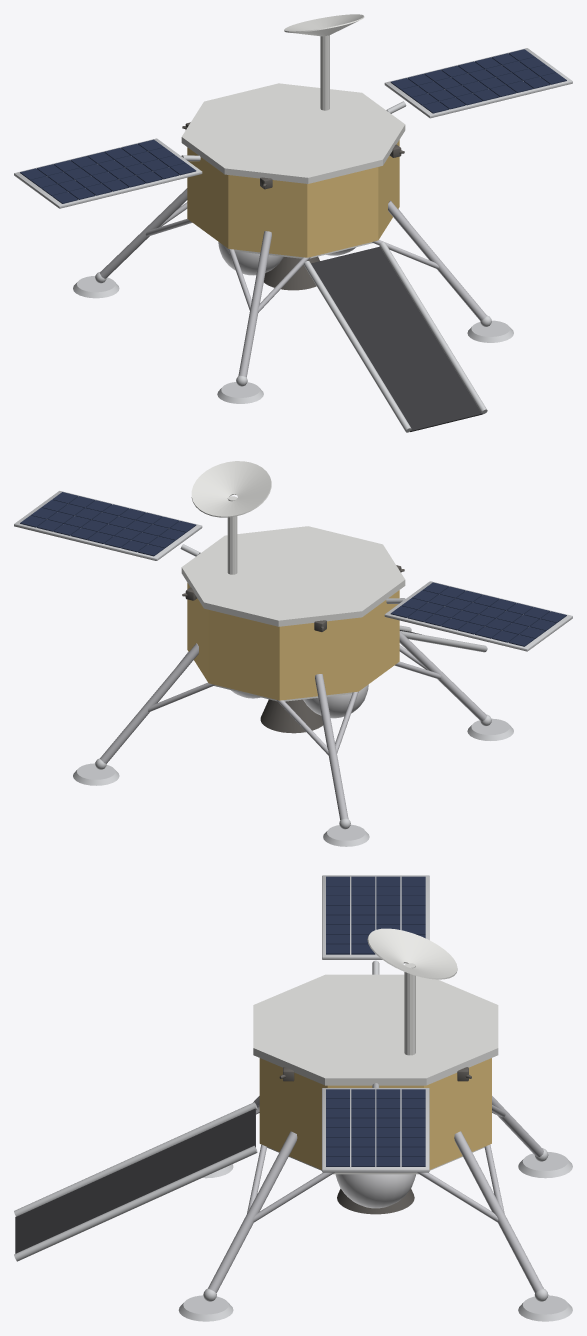
File: lander.glb
The picture shows the model from 3 angles, top to bottom: view 1: azimuth 30°, elevation 25°; view 2: azimuth 150°, elevation 25°; view 3: azimuth 270°, elevation 25°; orthographic projection. The views are drawn at different scales.
Parts seen in each view (by area): view 1: decks, body_mli, ramp_deck, wing_cells, legs, wing_frames, ramp_rails, footpads, propulsion, dish, tanks; view 2: decks, body_mli, wing_cells, legs, dish, wing_frames, footpads, propulsion, tanks, ramp_rails; view 3: decks, wing_cells, body_mli, ramp_deck, legs, ramp_rails, footpads, wing_frames, dish, tanks, propulsion.
Part boxes in pixels (bbox=[...]): decks: bbox=[181, 35, 405, 258]; body_mli: bbox=[187, 140, 399, 257]; ramp_deck: bbox=[311, 246, 482, 431]; wing_cells: bbox=[20, 49, 566, 203]; legs: bbox=[100, 188, 486, 377]; wing_frames: bbox=[14, 48, 572, 208]; ramp_rails: bbox=[303, 242, 487, 432]; footpads: bbox=[73, 271, 513, 403]; propulsion: bbox=[182, 122, 404, 290]; dish: bbox=[284, 14, 364, 36]; tanks: bbox=[218, 242, 355, 275]; decks: bbox=[181, 496, 405, 701]; body_mli: bbox=[187, 583, 399, 700]; wing_cells: bbox=[20, 492, 566, 646]; legs: bbox=[100, 631, 486, 819]; dish: bbox=[191, 461, 271, 517]; wing_frames: bbox=[14, 491, 572, 651]; footpads: bbox=[73, 714, 513, 846]; propulsion: bbox=[182, 565, 404, 733]; tanks: bbox=[231, 684, 368, 718]; ramp_rails: bbox=[399, 625, 487, 652]; decks: bbox=[253, 963, 498, 1174]; wing_cells: bbox=[326, 876, 425, 1166]; body_mli: bbox=[259, 1058, 491, 1169]; ramp_deck: bbox=[15, 1108, 255, 1253]; legs: bbox=[208, 1096, 543, 1292]; ramp_rails: bbox=[14, 1102, 257, 1261]; footpads: bbox=[178, 1148, 572, 1321]; wing_frames: bbox=[322, 875, 429, 1172]; dish: bbox=[367, 928, 457, 979]; tanks: bbox=[335, 1174, 415, 1208]; propulsion: bbox=[279, 1067, 471, 1214].
Bounding box in the file's own units: 6.1 × 3.16 × 4.89.
